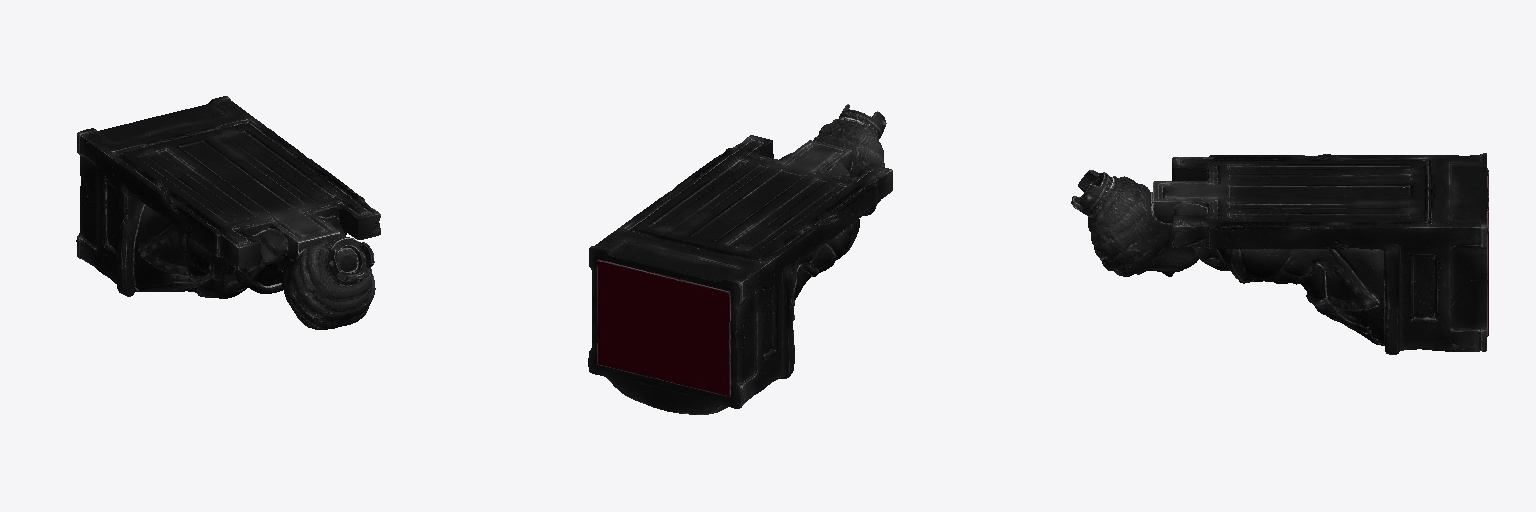
The picture shows the model from 3 angles: view 1: azimuth 30°, elevation 25°; view 2: azimuth 150°, elevation 25°; view 3: azimuth 270°, elevation 25°; orthographic projection.
Parts seen in each view (by area): view 1: mmGroup0; view 2: mmGroup0; view 3: mmGroup0.
Part boxes in pixels (x1,y1,x2,y2): mmGroup0: (76,96,380,329); mmGroup0: (588,104,892,414); mmGroup0: (1071,153,1488,354).
Bounding box in the file's own units: 4.88 × 4.69 × 10.9.
1 materials, 1 textured.